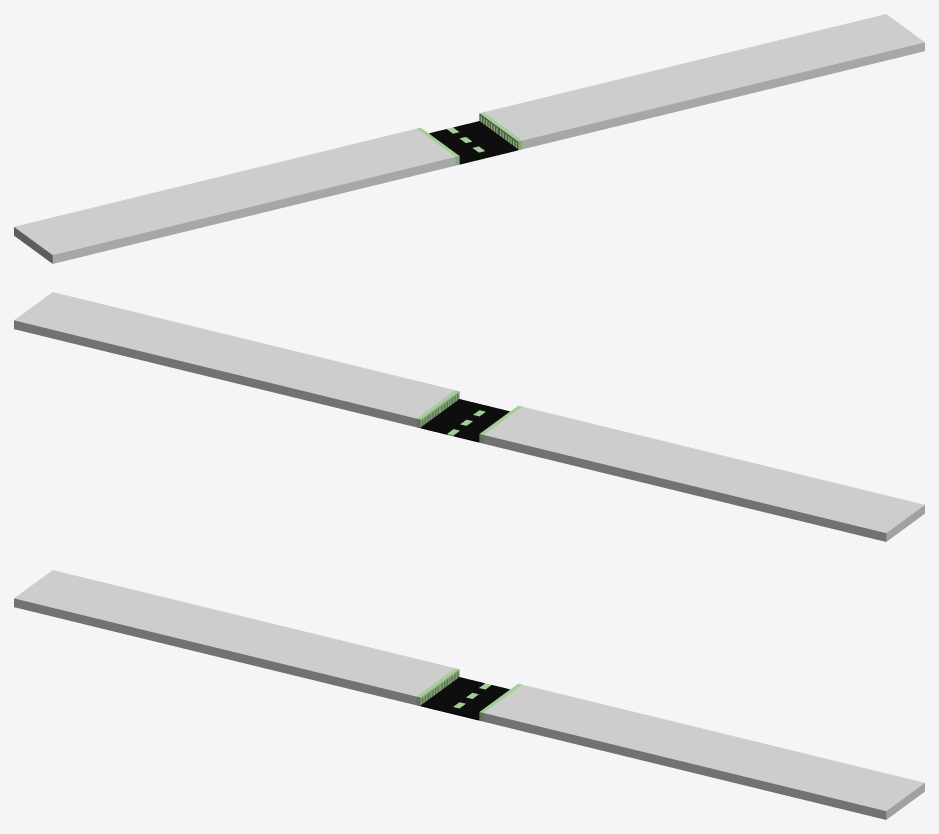
File: Sci-fi_raceTrackStraight_Beta2.fbx
3 renders of one model, top to bottom at view 1: azimuth 30°, elevation 25°; view 2: azimuth 150°, elevation 25°; view 3: azimuth 330°, elevation 25°, orthographic.
Parts seen in each view (by area): view 1: RightRoad, LeftRoad, Plane, LeftWall; view 2: RightRoad, LeftRoad, Plane, LeftWall; view 3: LeftRoad, RightRoad, Plane, RightWall.
Boxes of the visible parts, left/top/right/bottom form: RightRoad: left=14, top=128, right=455, bottom=263; LeftRoad: left=484, top=14, right=924, bottom=149; Plane: left=429, top=121, right=518, bottom=164; LeftWall: left=479, top=112, right=522, bottom=150; RightRoad: left=483, top=406, right=924, bottom=541; LeftRoad: left=14, top=292, right=454, bottom=427; Plane: left=420, top=399, right=509, bottom=442; LeftWall: left=416, top=390, right=459, bottom=428; LeftRoad: left=483, top=684, right=924, bottom=819; RightRoad: left=14, top=570, right=454, bottom=705; Plane: left=420, top=677, right=509, bottom=720; RightWall: left=416, top=668, right=459, bottom=706.
Bounding box in the file's own units: 13000 × 125 × 1000.
